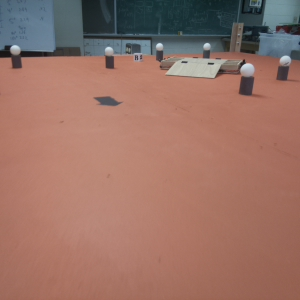blockB: (131, 50, 147, 62)
corner: (229, 21, 245, 53)
obstacle: (242, 64, 255, 96), (10, 44, 25, 69), (278, 54, 292, 80), (104, 45, 117, 70), (154, 41, 163, 60), (201, 41, 212, 56)
side: (221, 57, 240, 77)
slope: (175, 59, 219, 80)
start: (87, 93, 123, 107)
